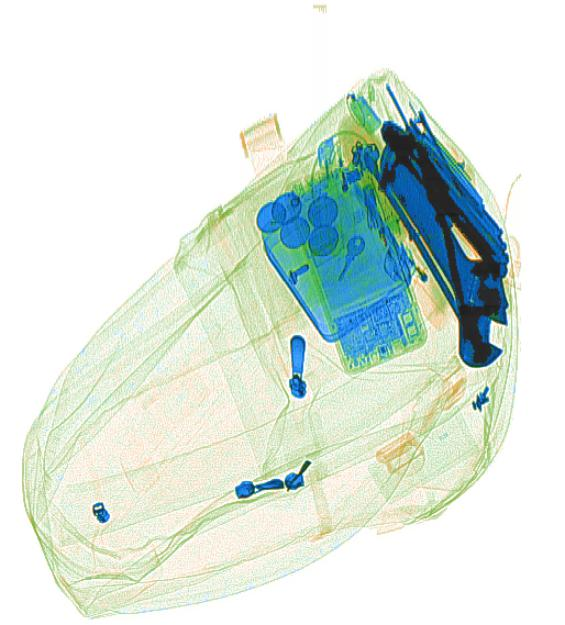lighter: (381, 239, 456, 330), (314, 135, 357, 256), (356, 182, 410, 272)
